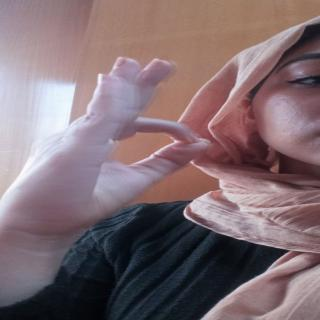Space: (24, 49, 215, 239)
